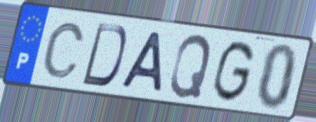0: (253, 41, 300, 112)
A: (118, 29, 164, 94)
C: (40, 20, 87, 80)
D: (79, 21, 129, 89)
G: (210, 39, 256, 105)
Q: (167, 32, 214, 100)
